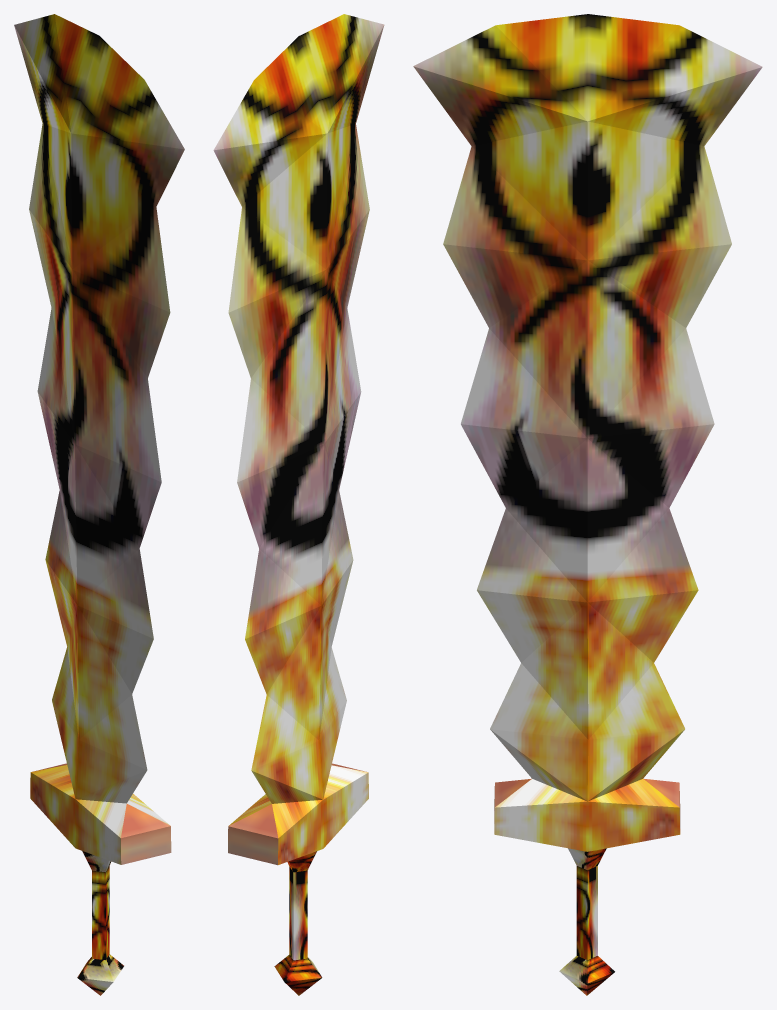
The model's file is heavyblade04_3.obj.
The picture shows the model from 3 angles, left to right: view 1: azimuth 30°, elevation 25°; view 2: azimuth 150°, elevation 25°; view 3: azimuth 270°, elevation 25°; orthographic projection. The views are drawn at different scales.
Visible parts, largest first — view 1: MDL_cw2hsw04_3; view 2: MDL_cw2hsw04_3; view 3: MDL_cw2hsw04_3.
Boxes of the visible parts, x1,y1,x2,y2 form: MDL_cw2hsw04_3: [14, 14, 184, 995]; MDL_cw2hsw04_3: [213, 14, 384, 995]; MDL_cw2hsw04_3: [413, 14, 762, 995].
Bounding box in the file's own units: 0.1175 × 1.86 × 0.5988.
